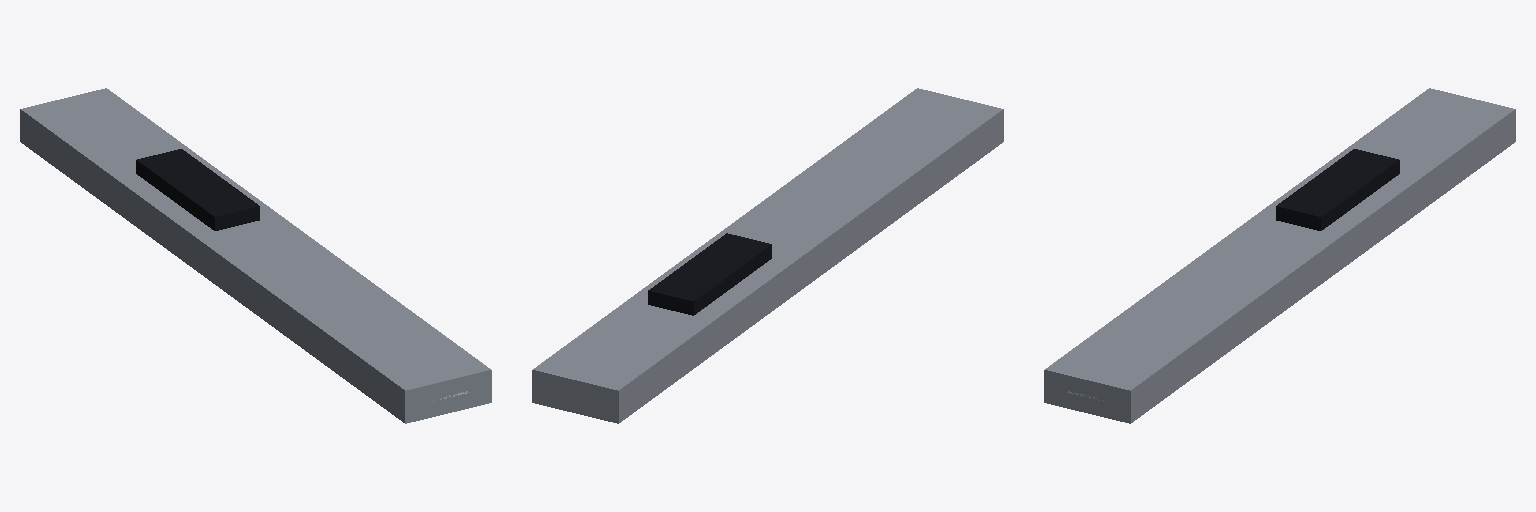
robot.urdf — nt_a300gr_scripted_preview:
<?xml version='1.0' encoding='utf-8'?>
<robot name="nt_a300gr_scripted_preview"><link name="link_0"><inertial><mass value="0.029" /><inertia ixx="5.2340166666666664e-05" iyy="9.90833333333335e-07" izz="5.3094166666666664e-05" ixy="0" ixz="0" iyz="0" /></inertial><visual><geometry><box size="0.019 0.147 0.007" /></geometry><material name="link_0_color"><color rgba=".58 .60 .64 1" /></material></visual><collision><geometry><box size="0.019 0.147 0.007" /></geometry></collision></link><link name="link_1"><inertial><mass value="0.006" /><inertia ixx="4.545e-07" iyy="5.45e-08" izz="5e-07" ixy="0" ixz="0" iyz="0" /></inertial><visual><geometry><box size="0.01 0.03 0.003" /></geometry><material name="link_1_color"><color rgba=".12 .13 .15 1" /></material></visual><collision><geometry><box size="0.01 0.03 0.003" /></geometry></collision><visual><origin xyz="0.0 -0.07554999999999999 -0.004999999999999994" /><geometry><box size=".009 .040 .0005" /></geometry><material name="visual_only_blade"><color rgba=".75 .79 .84 1" /></material></visual></link><joint name="slider" type="prismatic"><parent link="link_0" /><child link="link_1" /><origin xyz="0.0 0.022049999999999997 0.004999999999999994" /><axis xyz="0 -1 0" /><limit lower="0" upper="0.05" effort="100" velocity="1" /><dynamics damping=".3" friction=".001" /></joint></robot>

--- Facts derived from the render (not from the file) ---
Views: 3 orthographic renders of the robot side by side, from view 1: azimuth 30°, elevation 25°; view 2: azimuth 150°, elevation 25°; view 3: azimuth 330°, elevation 25°.
Robot: nt_a300gr_scripted_preview — 2 links, 1 joints (1 prismatic); root link link_0; default pose: all joints at 0.
Links seen in each view (by area): view 1: link_0, link_1; view 2: link_0, link_1; view 3: link_0, link_1.
Boxes of the visible links, x1,y1,x2,y2 form: link_0: (20, 88, 491, 423); link_1: (136, 149, 468, 401); link_0: (532, 88, 1003, 423); link_1: (648, 233, 771, 315); link_0: (1044, 88, 1515, 423); link_1: (1067, 149, 1399, 400).
Size in the robot's own frame: 0.019 by 0.147 by 0.01 metres.
Geometry: primitives only (box / cylinder / sphere), no mesh files.
